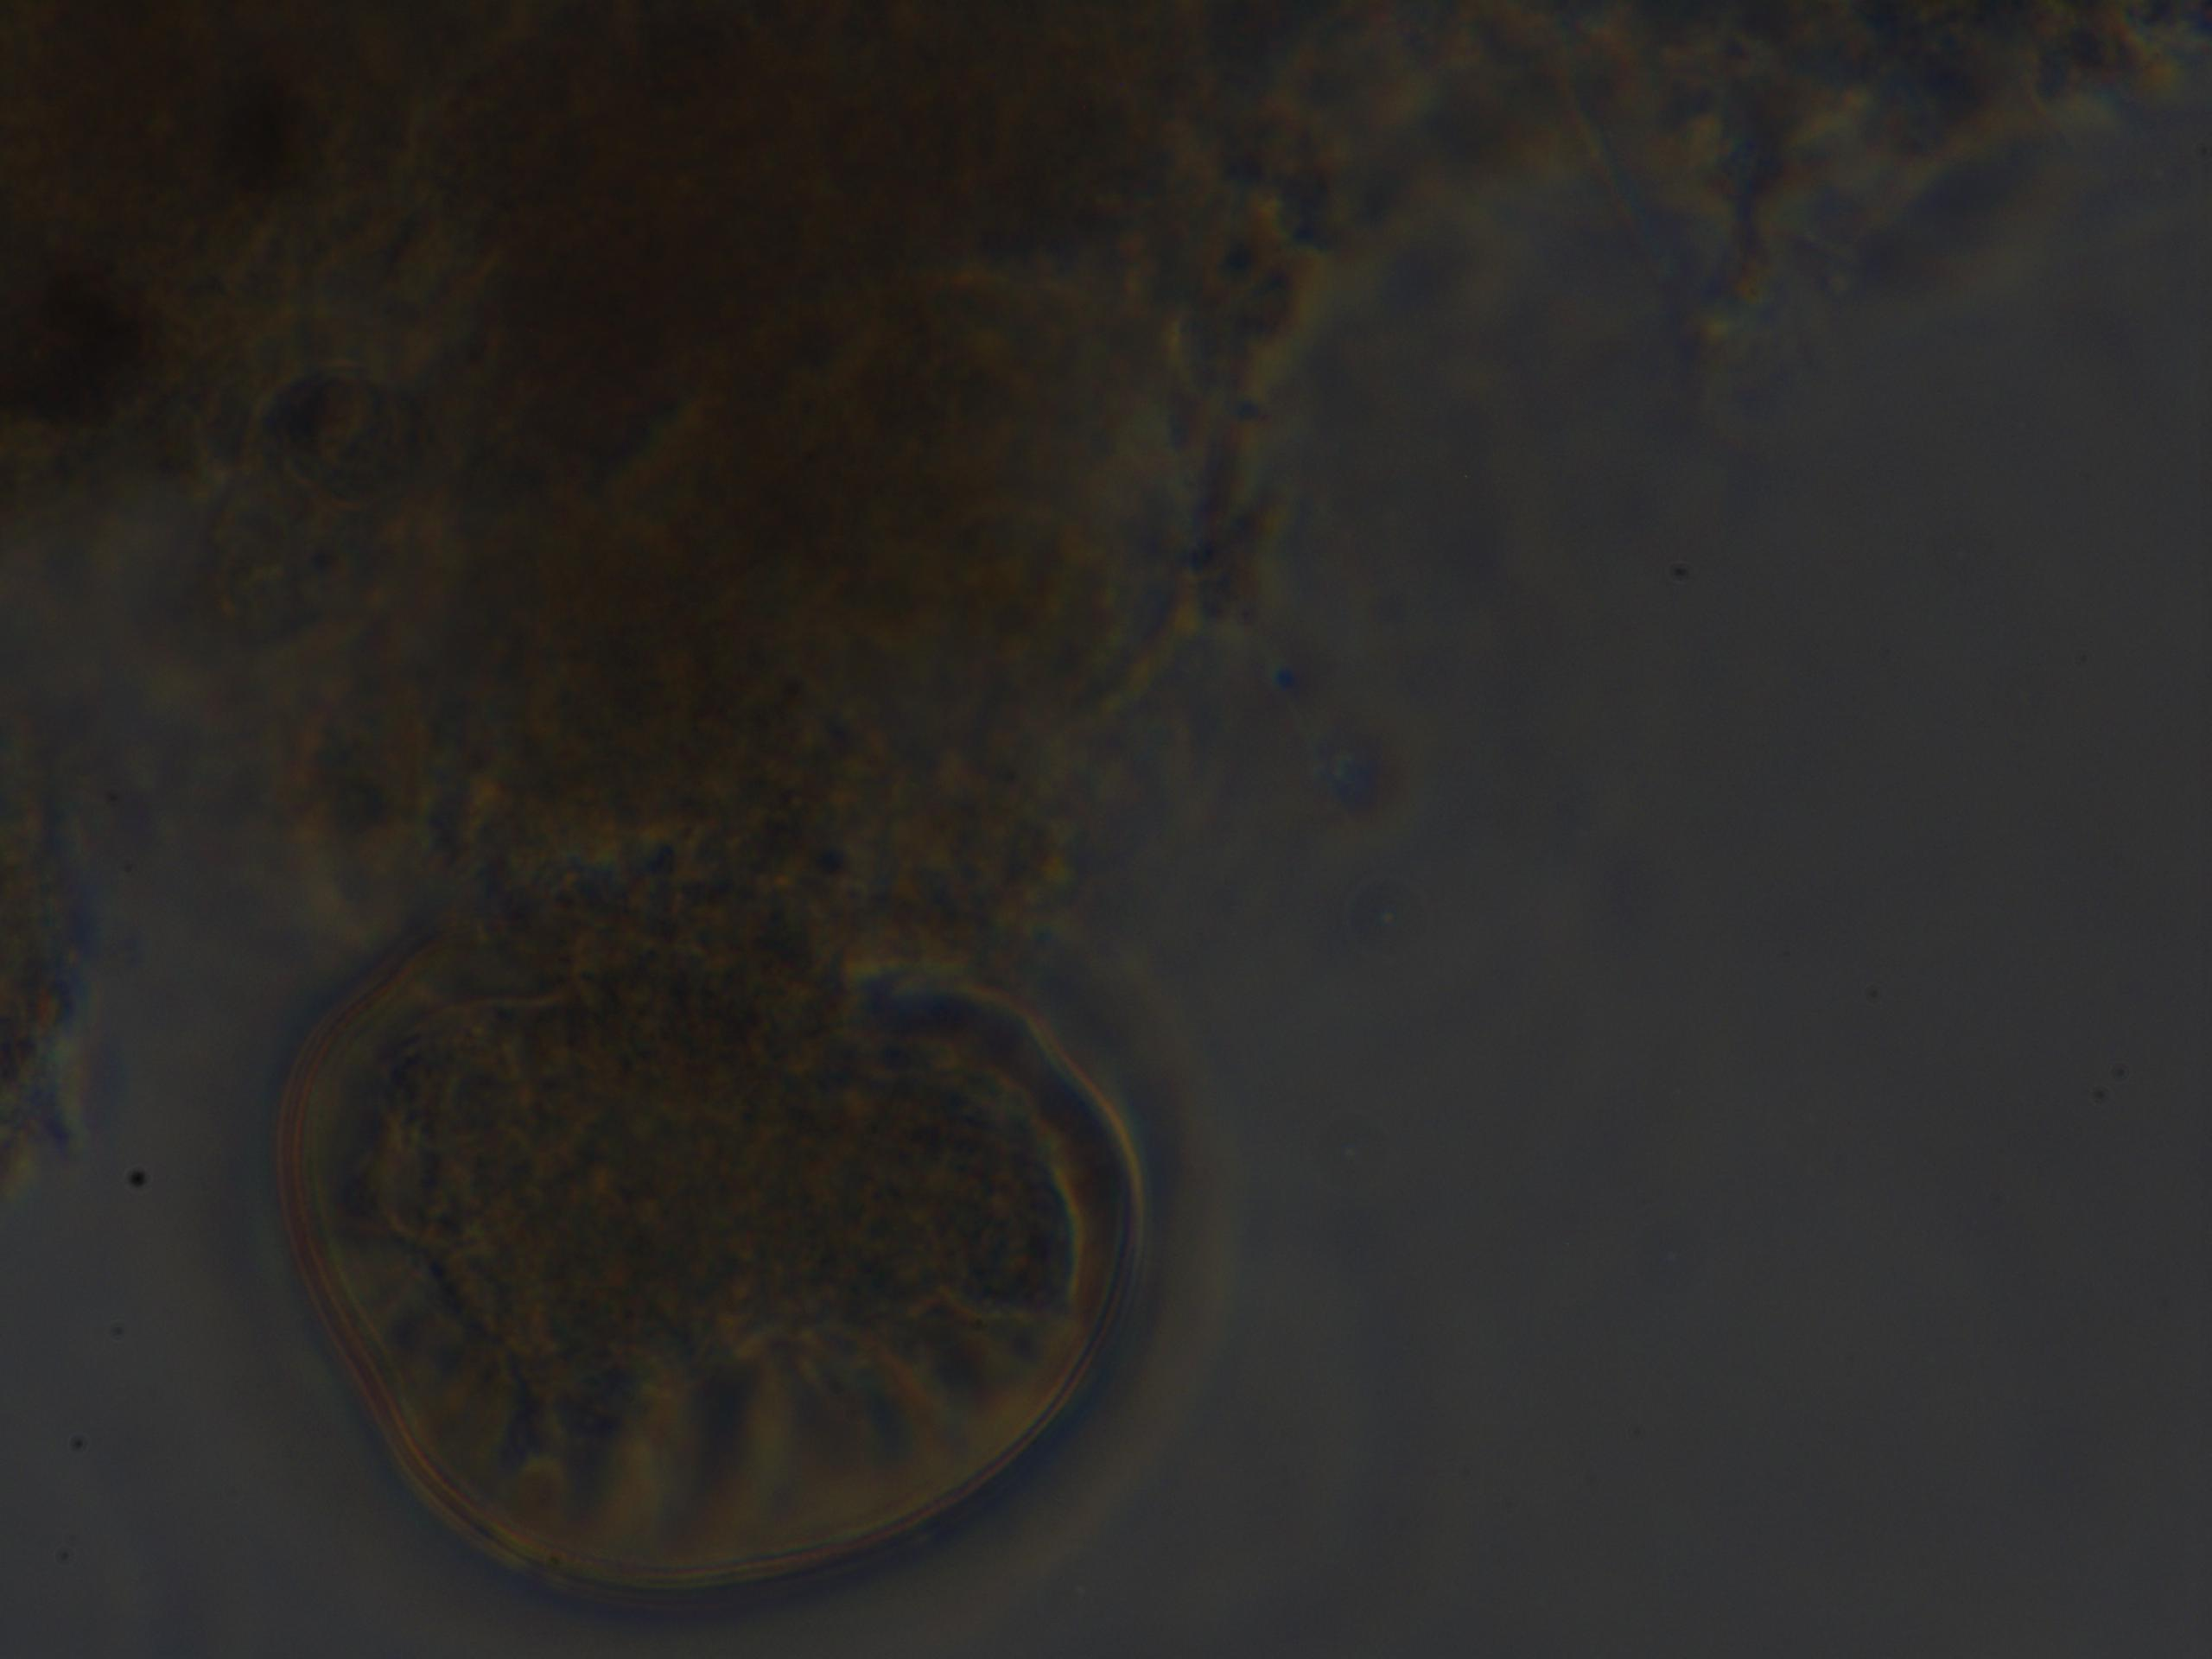protozoa: (266, 870, 1144, 1638)
